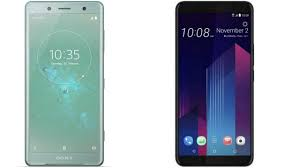htc: (172, 1, 255, 168), (22, 1, 105, 167)
